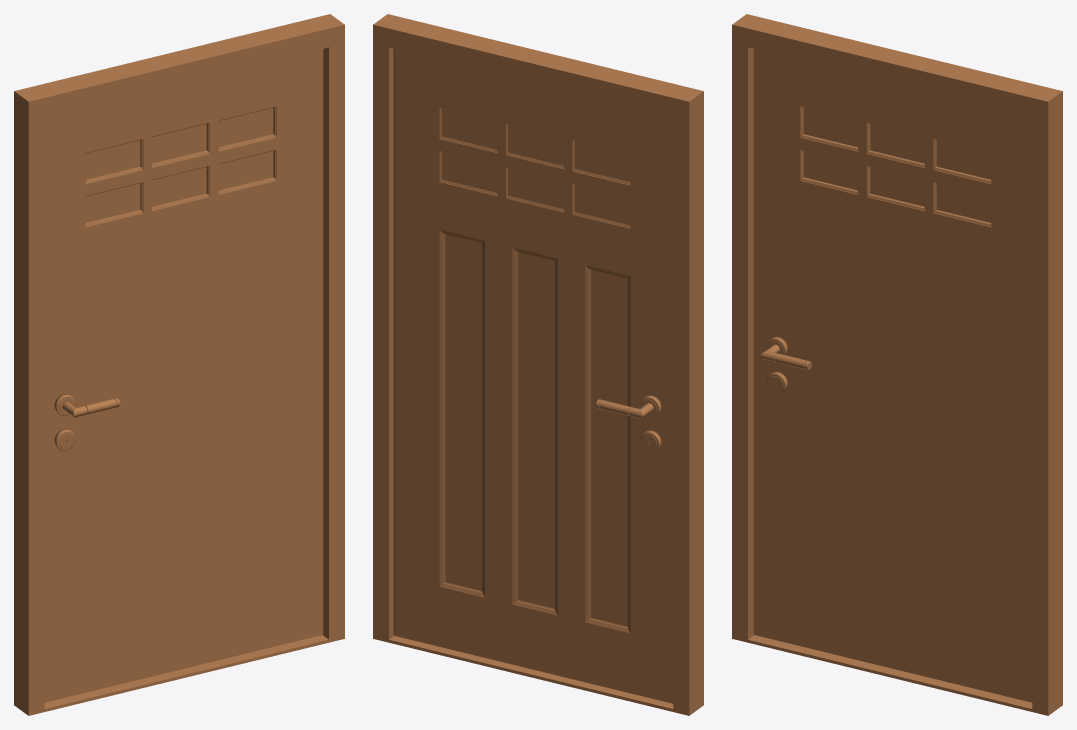
File: Door.obj
The picture shows the model from 3 angles, left to right: view 1: azimuth 30°, elevation 25°; view 2: azimuth 150°, elevation 25°; view 3: azimuth 330°, elevation 25°; orthographic projection.
Parts seen in each view (by area): view 1: Cube_013, Cube_002_Cube_033; view 2: Cube_013, Cube_002_Cube_033; view 3: Cube_013, Cube_002_Cube_033.
Boxes of the visible parts, x1,y1,x2,y2 form: Cube_013: [44, 49, 323, 702]; Cube_002_Cube_033: [14, 14, 344, 715]; Cube_013: [393, 48, 673, 703]; Cube_002_Cube_033: [373, 14, 703, 715]; Cube_013: [753, 49, 1032, 702]; Cube_002_Cube_033: [732, 14, 1062, 715].
Bounding box in the file's own units: 1.11 × 2.06 × 0.2.
Materials: 1 (1 with a texture image).
